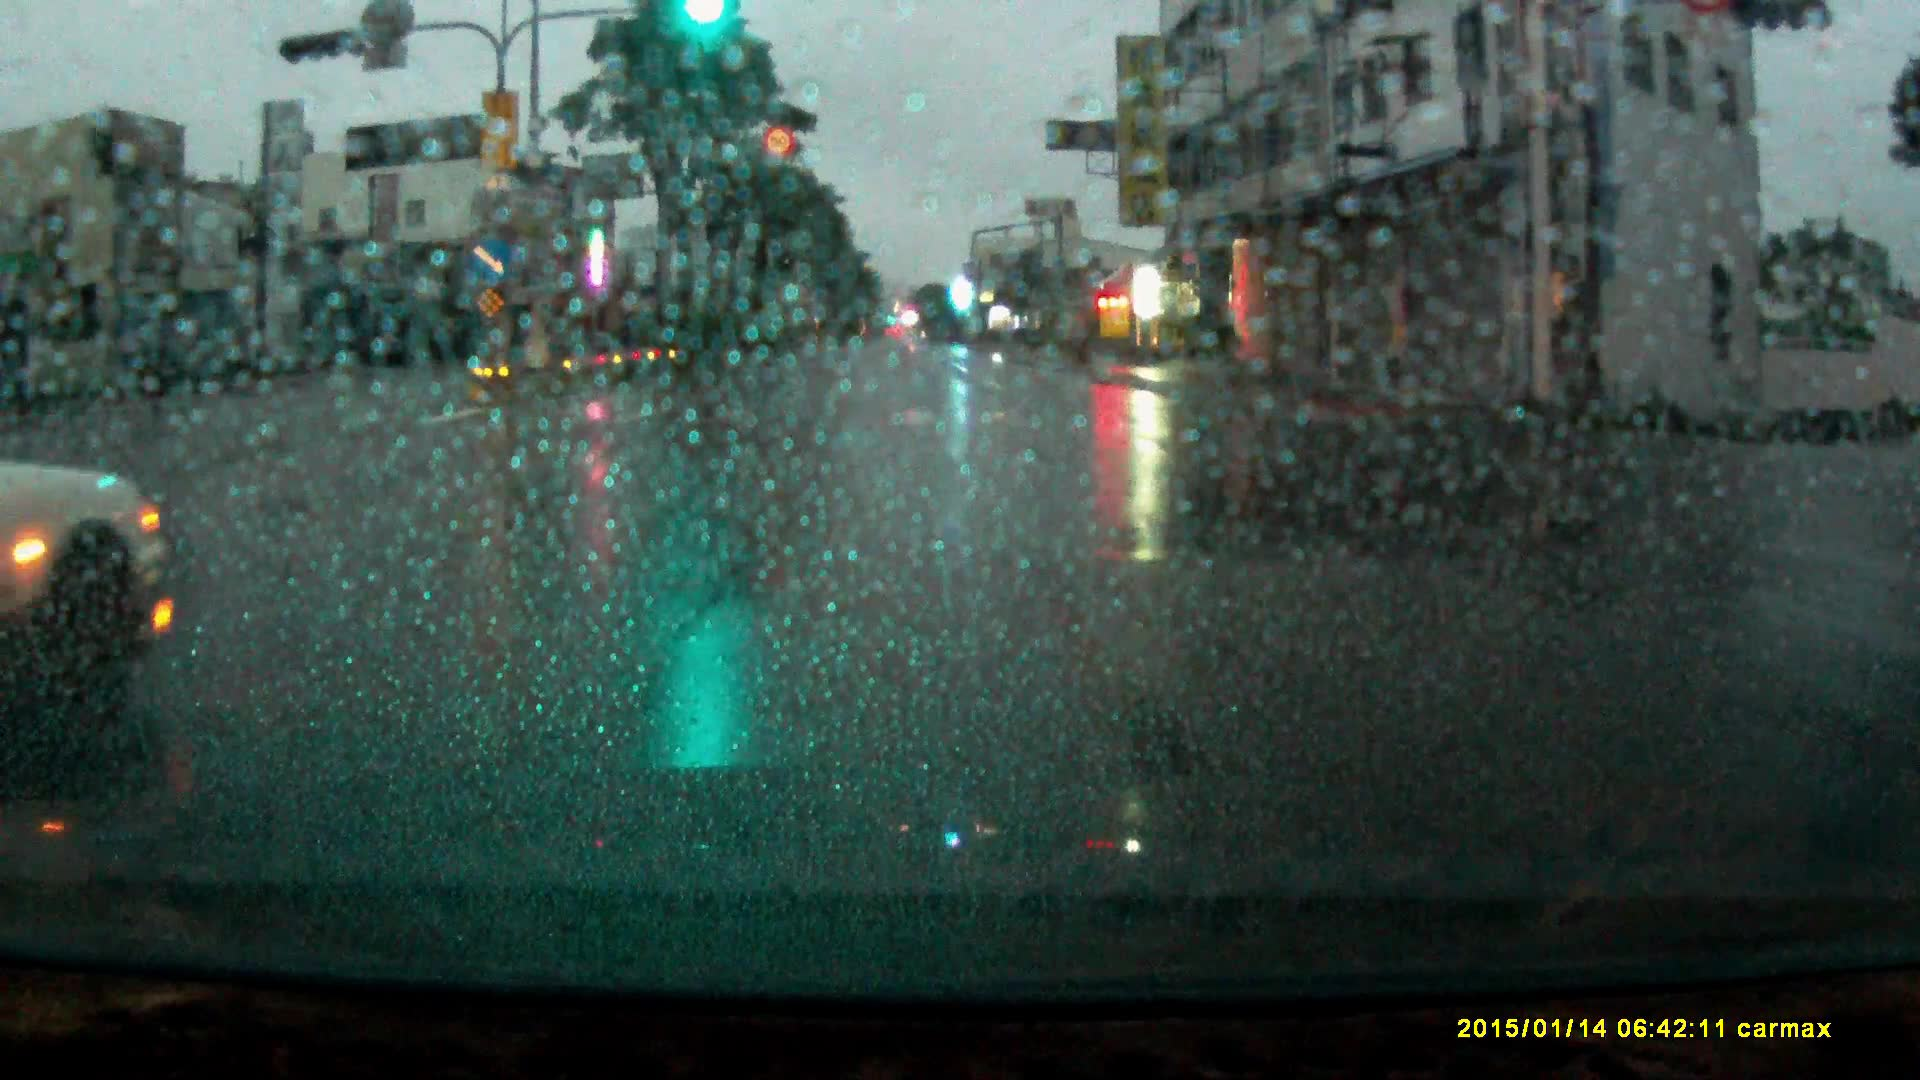vehicle: (1, 464, 178, 731)
